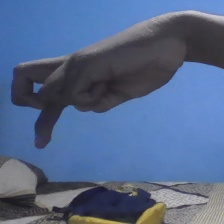P: (6, 7, 190, 154)
